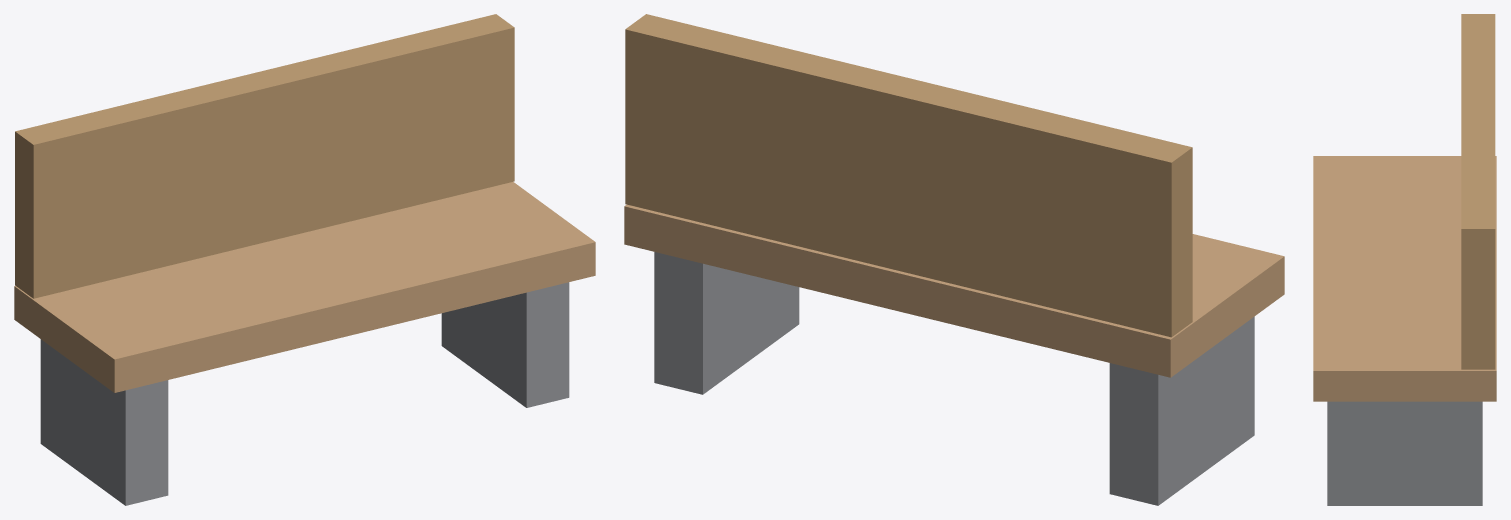
File: prop-wooden-bench.glb
The picture shows the model from 3 angles, left to right: view 1: azimuth 30°, elevation 25°; view 2: azimuth 150°, elevation 25°; view 3: azimuth 270°, elevation 25°; orthographic projection. The views are drawn at different scales.
Visible parts, largest first — view 1: prop-wooden-bench; view 2: prop-wooden-bench; view 3: prop-wooden-bench.
Part boxes in pixels (x1,y1,x2,y2): prop-wooden-bench: [14, 14, 595, 505]; prop-wooden-bench: [624, 14, 1284, 505]; prop-wooden-bench: [1313, 14, 1496, 505].
Bounding box in the file's own units: 1.8 × 1.12 × 0.65.
